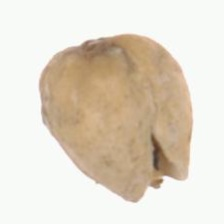L1: (127, 139, 188, 204), (54, 32, 136, 52)
L2: (39, 33, 193, 203)
